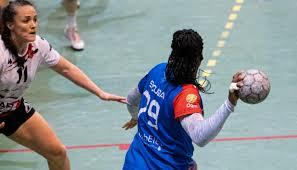ballon_handball: (236, 69, 271, 104)
